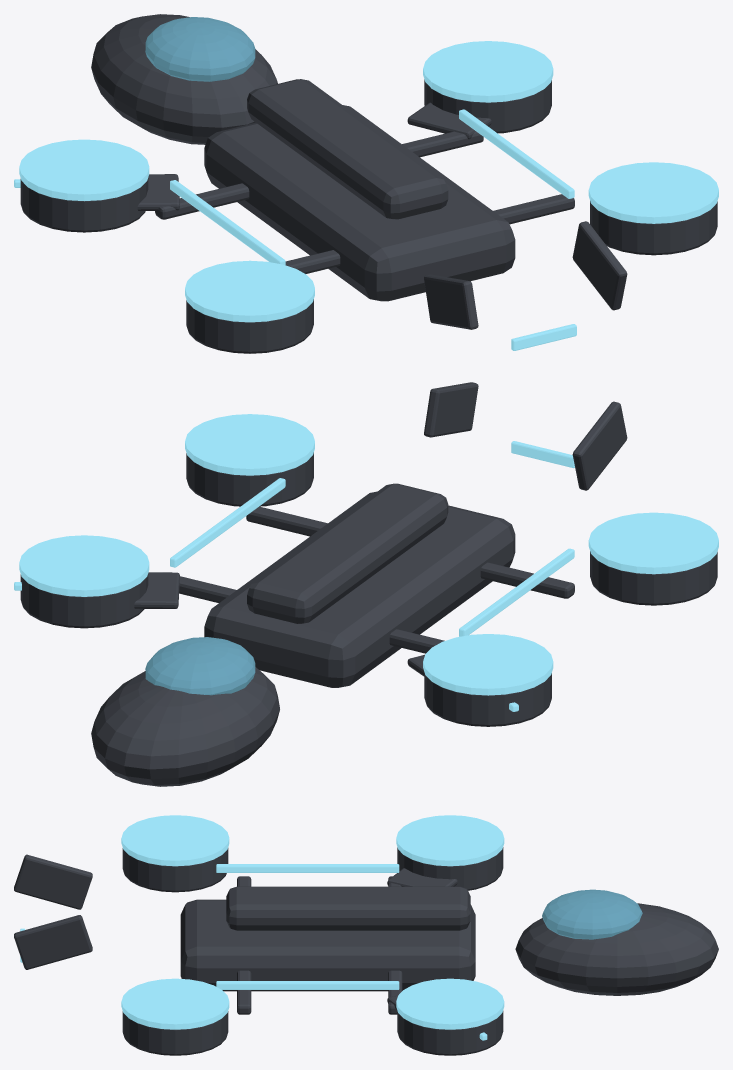
File: drone-interceptor.glb
3 views of the same model, one above another, from view 1: azimuth 30°, elevation 25°; view 2: azimuth 150°, elevation 25°; view 3: azimuth 270°, elevation 25° (orthographic). The views are drawn at different scales.
Visible parts, largest first — view 1: DR_int_Body, DR_int_rim.002, DR_int_rim.001, DR_int_rim.003, DR_int_rim, DR_int_duct.002, DR_int_duct.003, DR_int_duct, DR_int_duct.001, DR_int_strut.003, DR_int_strut, DR_int_strut.001 (+1 smaller); view 2: DR_int_Body, DR_int_rim.001, DR_int_rim.002, DR_int_rim, DR_int_rim.003, DR_int_duct.002, DR_int_duct, DR_int_duct.001, DR_int_duct.003, DR_int_strut.002, DR_int_strut.003, DR_int_strut.001 (+1 smaller); view 3: DR_int_Body, DR_int_rim, DR_int_rim.001, DR_int_rim.002, DR_int_rim.003, DR_int_duct.003, DR_int_duct.001, DR_int_duct.002, DR_int_duct, DR_int_strut.003.
Part boxes in pixels (x1,y1,x2,y2): DR_int_Body: [14, 14, 627, 350]; DR_int_rim.002: [185, 260, 314, 322]; DR_int_rim.001: [423, 41, 553, 102]; DR_int_rim.003: [588, 162, 718, 223]; DR_int_rim: [19, 139, 149, 201]; DR_int_duct.002: [186, 299, 313, 353]; DR_int_duct.003: [590, 201, 717, 255]; DR_int_duct: [20, 178, 148, 232]; DR_int_duct.001: [424, 79, 551, 133]; DR_int_strut.003: [493, 194, 574, 224]; DR_int_strut: [155, 183, 249, 219]; DR_int_strut.001: [402, 131, 483, 157]; DR_int_Body: [14, 382, 627, 786]; DR_int_rim.001: [19, 535, 149, 596]; DR_int_rim.002: [588, 512, 718, 574]; DR_int_rim: [423, 634, 553, 695]; DR_int_rim.003: [185, 414, 314, 475]; DR_int_duct.002: [590, 551, 717, 605]; DR_int_duct: [424, 672, 551, 726]; DR_int_duct.001: [20, 574, 148, 628]; DR_int_duct.003: [186, 452, 313, 506]; DR_int_strut.002: [480, 562, 574, 598]; DR_int_strut.003: [246, 506, 327, 536]; DR_int_strut.001: [179, 576, 236, 602]; DR_int_Body: [14, 854, 718, 1040]; DR_int_rim: [396, 815, 504, 866]; DR_int_rim.001: [396, 978, 504, 1029]; DR_int_rim.002: [121, 815, 229, 866]; DR_int_rim.003: [121, 978, 229, 1029]; DR_int_duct.003: [122, 1011, 228, 1055]; DR_int_duct.001: [397, 1011, 503, 1055]; DR_int_duct.002: [122, 848, 228, 892]; DR_int_duct: [397, 847, 503, 890]; DR_int_strut.003: [237, 970, 251, 1014].
Bounding box in the file's own units: 2.43 × 0.5437 × 3.46.
